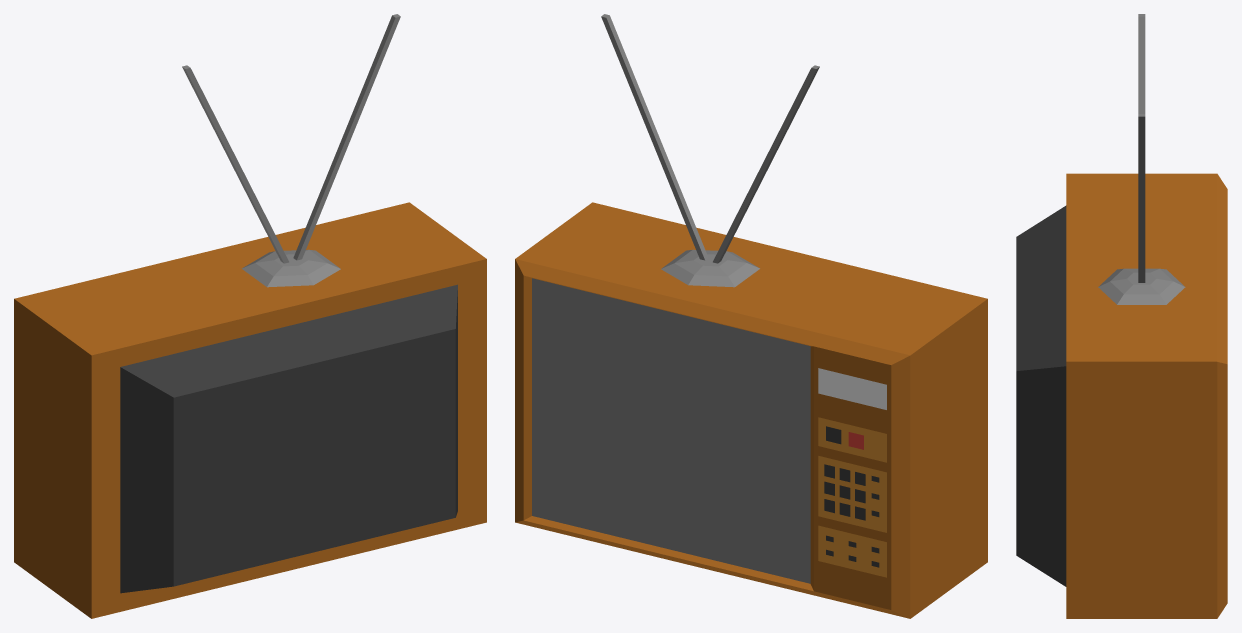
The picture shows the model from 3 angles, left to right: view 1: azimuth 30°, elevation 25°; view 2: azimuth 150°, elevation 25°; view 3: azimuth 270°, elevation 25°; orthographic projection. The views are drawn at different scales.
Parts seen in each view (by area): view 1: TV; view 2: TV; view 3: TV.
Part boxes in pixels (x1,y1,x2,y2): TV: [14, 14, 486, 618]; TV: [515, 14, 987, 618]; TV: [1016, 14, 1227, 618].
Size of the model in its own units: 59 by 70 by 28.
